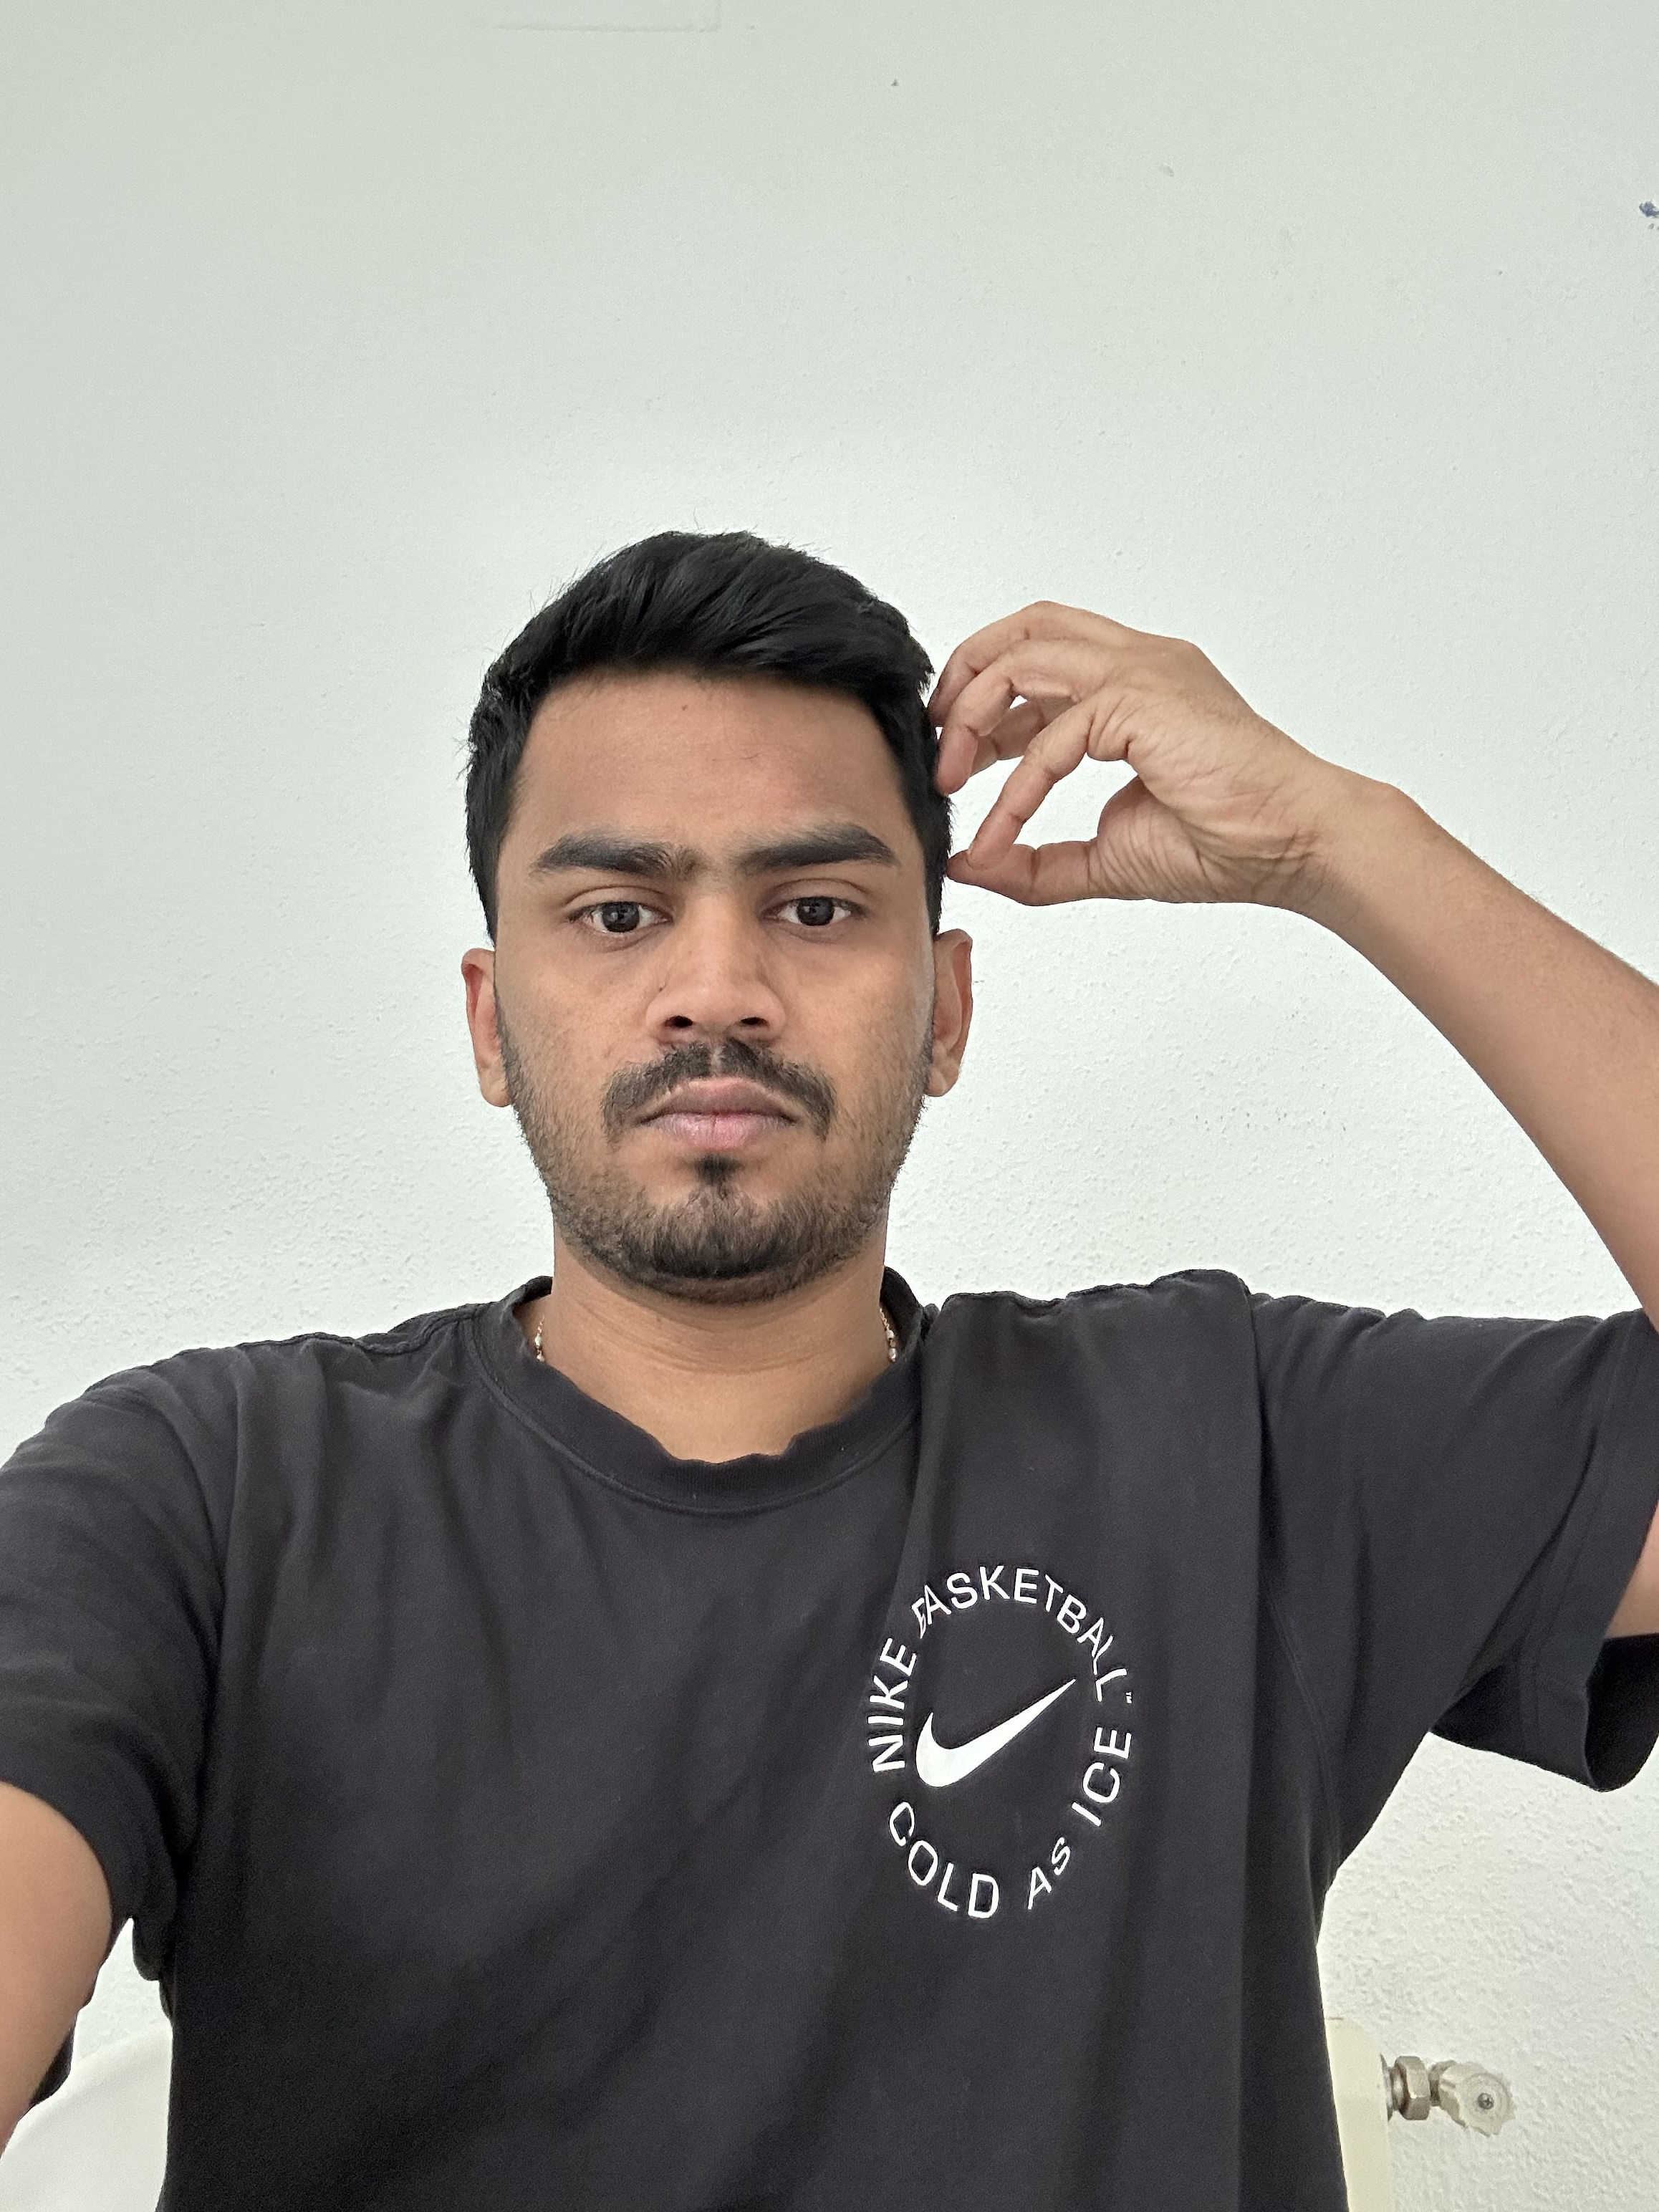brain: (3, 524, 1654, 2205), (859, 1557, 1141, 1925)
